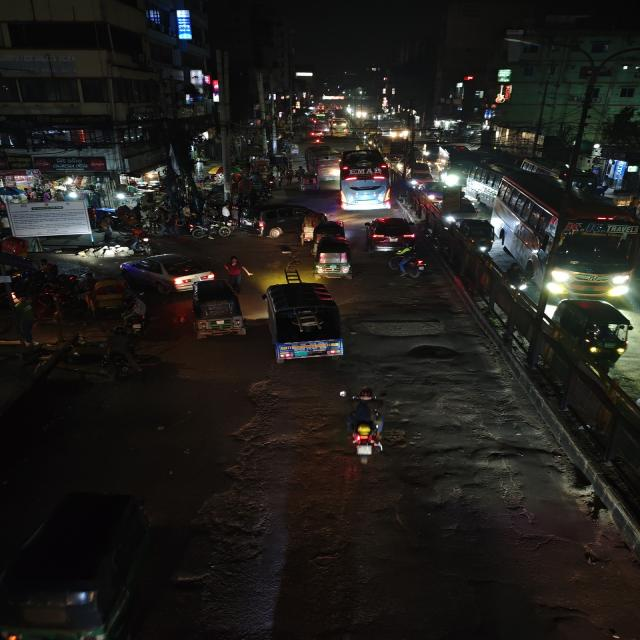bus: (489, 160, 639, 298), (336, 148, 393, 212), (302, 144, 341, 180)
car: (546, 295, 640, 365), (120, 252, 216, 291), (240, 202, 323, 238), (362, 214, 418, 252), (455, 216, 495, 254), (406, 161, 436, 187)
cng: (188, 280, 250, 342), (312, 239, 354, 281)
motorcycle: (336, 383, 399, 469), (390, 246, 432, 279), (189, 218, 231, 241)
pedestrian: (224, 255, 250, 286)
pickup_van: (259, 281, 350, 369)
rickshaw: (84, 279, 132, 316), (116, 303, 152, 337), (297, 172, 320, 194)
